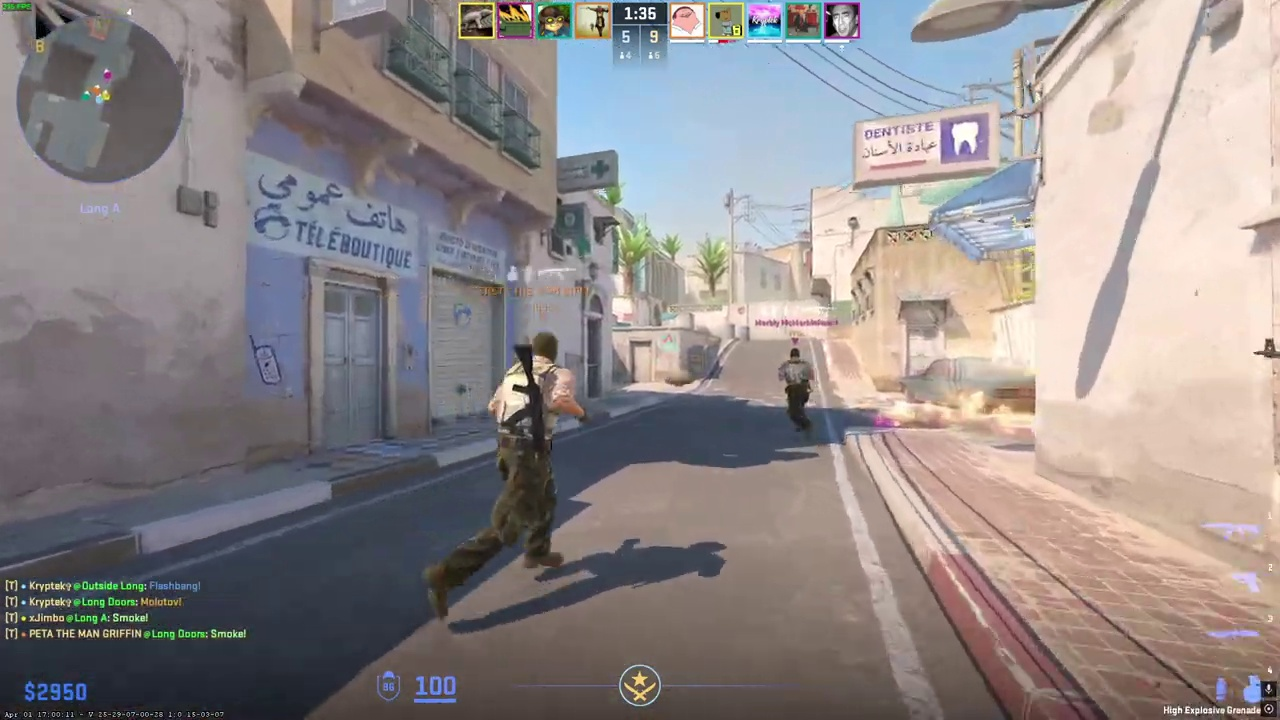Terrorist: (442, 329, 576, 623), (781, 347, 815, 434)
